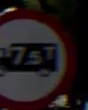Heavy Vehicles: (1, 5, 73, 109)
